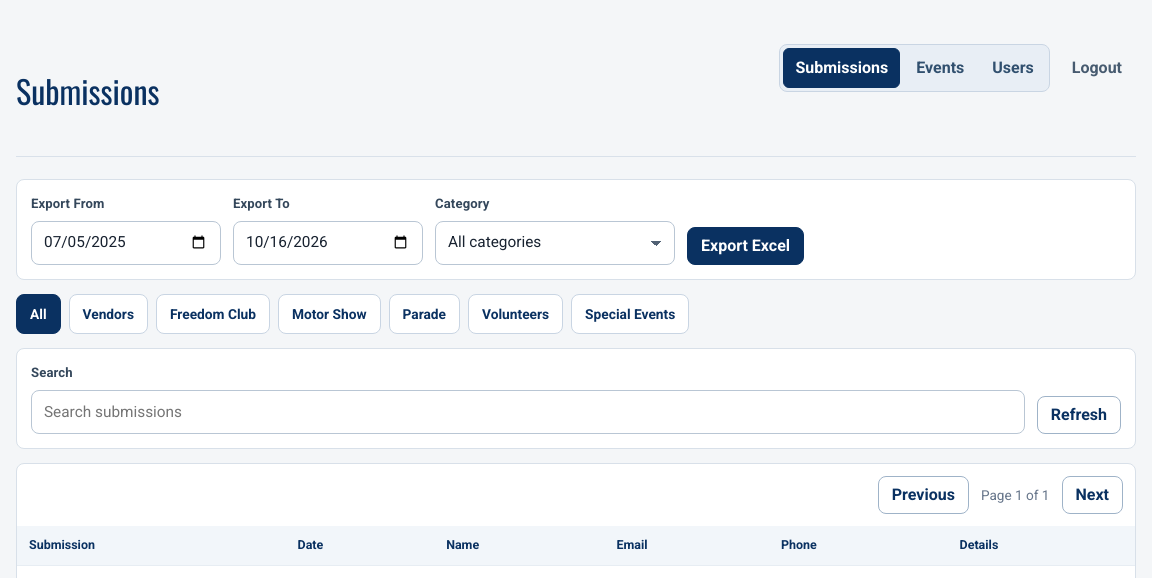
AdminComponent › defaults to submissions and uses a dynamic admin header
The width and height of the screenshot is (1152, 578).
Step 1. Click the button with test id "admin-section-events" → (940, 68), box [904,48,976,88]
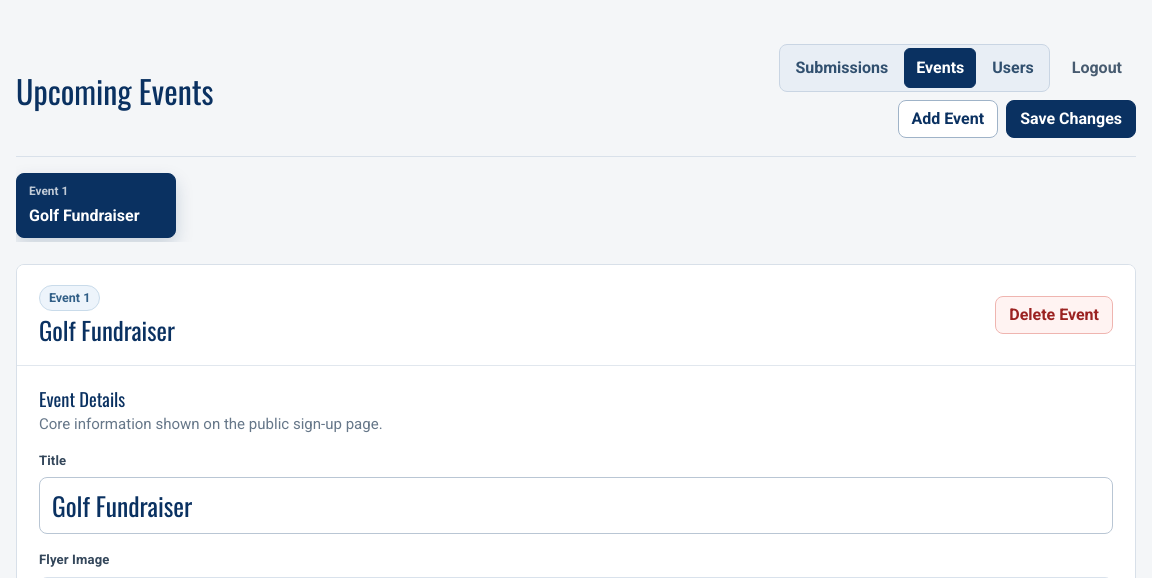
Expected: the heading "Upcoming Events" is shown, [16,73,214,109]
